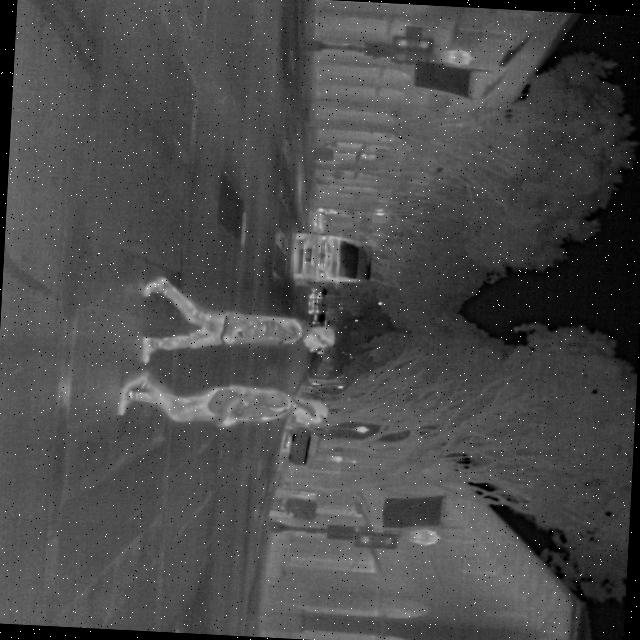Pedestrian: (133, 273, 344, 376), (115, 369, 332, 436)
Vehicle: (288, 230, 376, 290)
